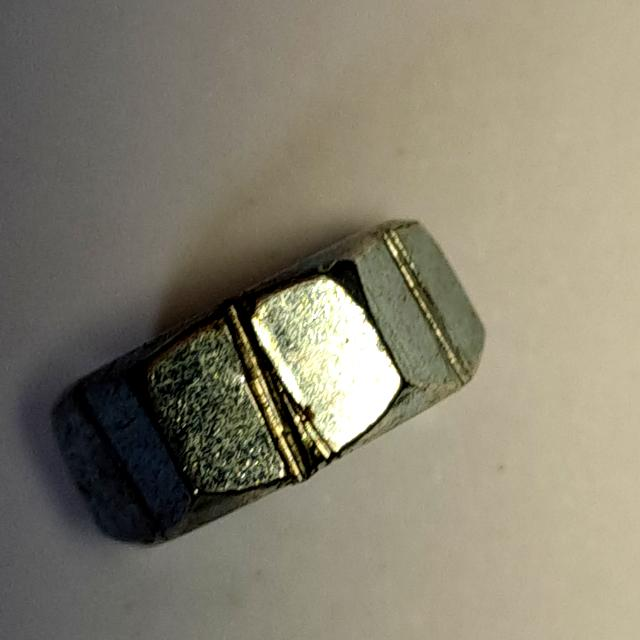Side_Scratches: (34, 203, 500, 567)
